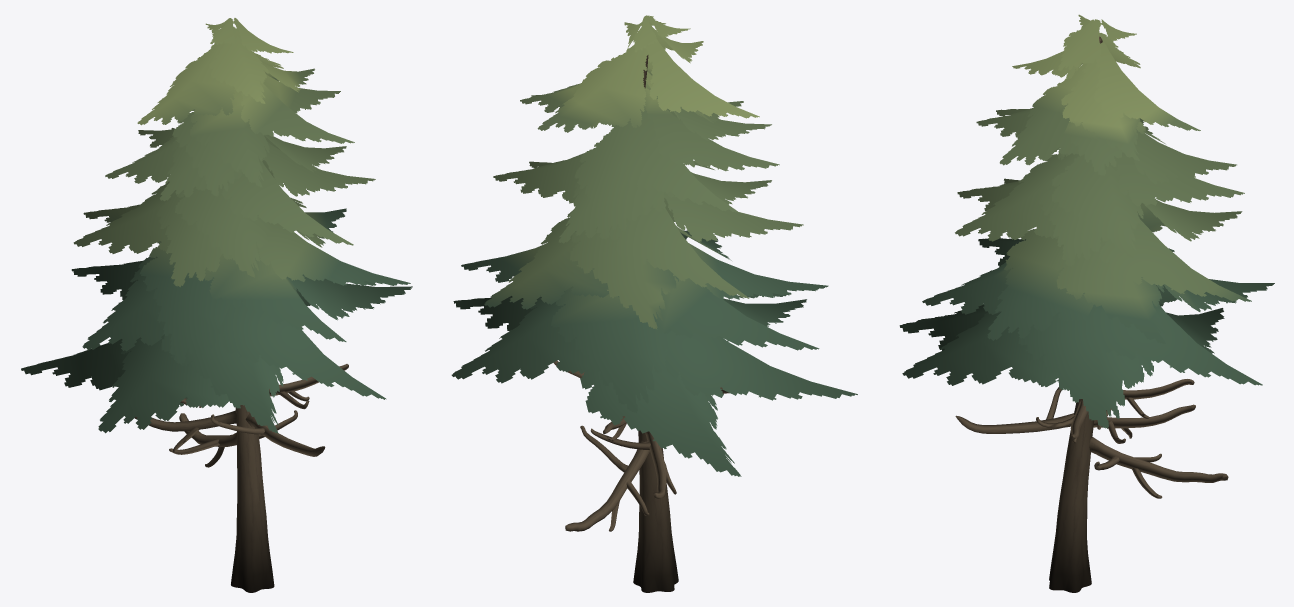
File: conifer-tiered-boughs.glb
The picture shows the model from 3 angles, left to right: view 1: azimuth 30°, elevation 25°; view 2: azimuth 150°, elevation 25°; view 3: azimuth 270°, elevation 25°; orthographic projection. The views are drawn at different scales.
Parts seen in each view (by area): view 1: conifer-tiered-boughs runtime mesh; view 2: conifer-tiered-boughs runtime mesh; view 3: conifer-tiered-boughs runtime mesh.
Boxes of the visible parts, bbox=[...] form: conifer-tiered-boughs runtime mesh: bbox=[21, 18, 412, 592]; conifer-tiered-boughs runtime mesh: bbox=[451, 15, 857, 592]; conifer-tiered-boughs runtime mesh: bbox=[899, 14, 1274, 592].
Size of the model in its own units: 3.78 by 5.6 by 3.47.
Materials: 2 (2 with a texture image).
